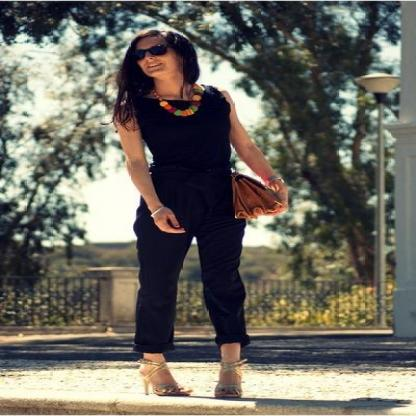bag: (231, 171, 284, 224)
pants: (126, 197, 252, 355)
shirt: (137, 81, 235, 225)
shoe: (162, 381, 256, 400)
sunglass: (126, 36, 166, 58)
